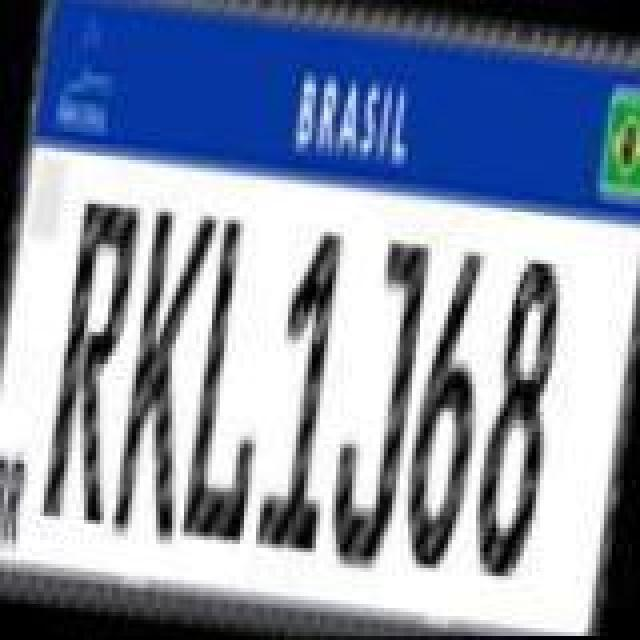1: (248, 222, 356, 558)
6: (392, 242, 500, 574)
8: (466, 248, 570, 584)
J: (320, 232, 428, 572)
K: (108, 210, 216, 546)
L: (176, 214, 284, 546)
R: (42, 194, 150, 526)
